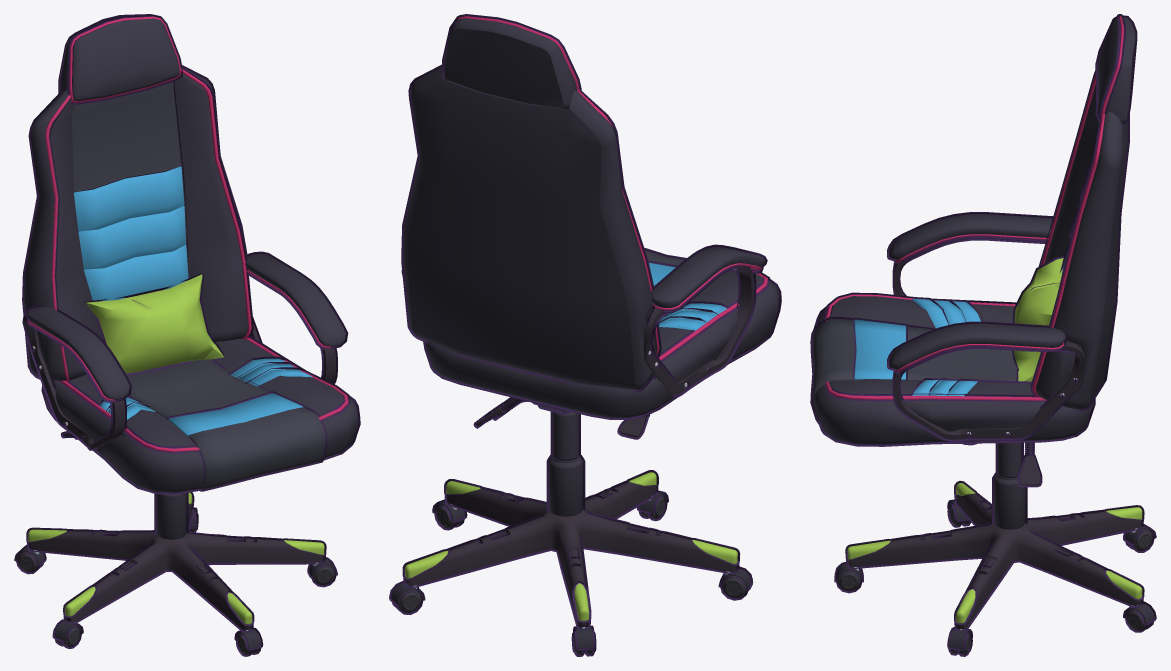
3 renders of one model, left to right at view 1: azimuth 30°, elevation 25°; view 2: azimuth 150°, elevation 25°; view 3: azimuth 270°, elevation 25°, orthographic. The views are drawn at different scales.
Parts seen in each view (by area): view 1: Spine_Material #8_0, Cell_Material #397_0, Plastic Parts_Material #11_0, Spine Center Small Part_Material #3_0, Chair Central Part_Material #4_0, Chair_Material #8_0, Spine Center Part_Material #2_0, Pillow_Material #10_0, Head_Material #8_0, Pads_Material #8_0, Outline_Material #9_0, Chair Central Small Part_Material #5_0 (+6 smaller); view 2: Spine_Material #8_0, Plastic Parts_Material #11_0, Cell_Material #397_0, Chair_Material #8_0, Head_Material #8_0, Mecha Plastic Parts_Material #20_0, Pads_Material #8_0, Legs Parts_Material #14_0, Outline_Material #9_0, Wings_Material #22_0, Chair Side Parts_Material #6_0, Wheel Discs_Material #13_0 (+1 smaller); view 3: Cell_Material #397_0, Spine_Material #8_0, Plastic Parts_Material #11_0, Chair_Material #8_0, Pads_Material #8_0, Chair Central Part_Material #4_0, Outline_Material #9_0, Pillow_Material #10_0, Head_Material #8_0, Chair Central Small Part_Material #5_0, Mecha Plastic Parts_Material #20_0, Chair Side Parts_Material #6_0 (+6 smaller).
Boxes of the visible parts, x1=… form: Spine_Material #8_0: x1=24, y1=67, x2=248, y2=381; Cell_Material #397_0: x1=14, y1=14, x2=360, y2=656; Plastic Parts_Material #11_0: x1=24, y1=317, x2=335, y2=630; Spine Center Small Part_Material #3_0: x1=74, y1=166, x2=188, y2=301; Chair Central Part_Material #4_0: x1=127, y1=359, x2=325, y2=489; Chair_Material #8_0: x1=43, y1=338, x2=358, y2=492; Spine Center Part_Material #2_0: x1=72, y1=82, x2=180, y2=318; Pillow_Material #10_0: x1=85, y1=274, x2=223, y2=373; Head_Material #8_0: x1=60, y1=18, x2=179, y2=101; Pads_Material #8_0: x1=27, y1=253, x2=346, y2=399; Outline_Material #9_0: x1=45, y1=16, x2=348, y2=452; Chair Central Small Part_Material #5_0: x1=169, y1=393, x2=302, y2=436; Spine_Material #8_0: x1=403, y1=66, x2=657, y2=390; Plastic Parts_Material #11_0: x1=405, y1=265, x2=754, y2=627; Cell_Material #397_0: x1=389, y1=14, x2=781, y2=656; Chair_Material #8_0: x1=425, y1=271, x2=779, y2=417; Head_Material #8_0: x1=444, y1=18, x2=577, y2=109; Mecha Plastic Parts_Material #20_0: x1=549, y1=411, x2=582, y2=516; Pads_Material #8_0: x1=651, y1=247, x2=765, y2=307; Legs Parts_Material #14_0: x1=404, y1=472, x2=737, y2=621; Outline_Material #9_0: x1=456, y1=16, x2=767, y2=360; Wings_Material #22_0: x1=391, y1=492, x2=751, y2=648; Chair Side Parts_Material #6_0: x1=659, y1=303, x2=727, y2=330; Wheel Discs_Material #13_0: x1=401, y1=497, x2=743, y2=651; Cell_Material #397_0: x1=810, y1=14, x2=1156, y2=656; Spine_Material #8_0: x1=1035, y1=84, x2=1127, y2=410; Plastic Parts_Material #11_0: x1=848, y1=238, x2=1141, y2=629; Chair_Material #8_0: x1=813, y1=296, x2=1093, y2=444; Pads_Material #8_0: x1=889, y1=214, x2=1065, y2=369; Chair Central Part_Material #4_0: x1=812, y1=318, x2=1017, y2=422; Outline_Material #9_0: x1=825, y1=16, x2=1123, y2=400; Pillow_Material #10_0: x1=1014, y1=258, x2=1063, y2=381; Head_Material #8_0: x1=1097, y1=17, x2=1135, y2=124; Chair Central Small Part_Material #5_0: x1=854, y1=319, x2=905, y2=379; Mecha Plastic Parts_Material #20_0: x1=994, y1=443, x2=1025, y2=529; Chair Side Parts_Material #6_0: x1=912, y1=298, x2=980, y2=396.
Bounding box in the file's own units: 0.8179 × 1.5 × 0.8366.
